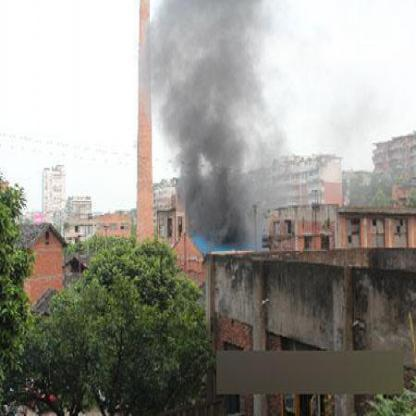smoke: (174, 1, 262, 168), (188, 169, 248, 244), (138, 13, 174, 126)
